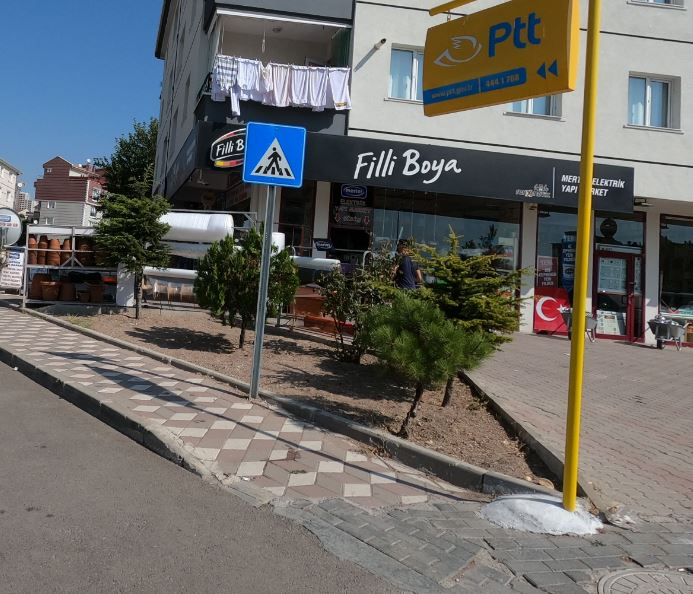Yaya Gecidi: (248, 124, 303, 184)
